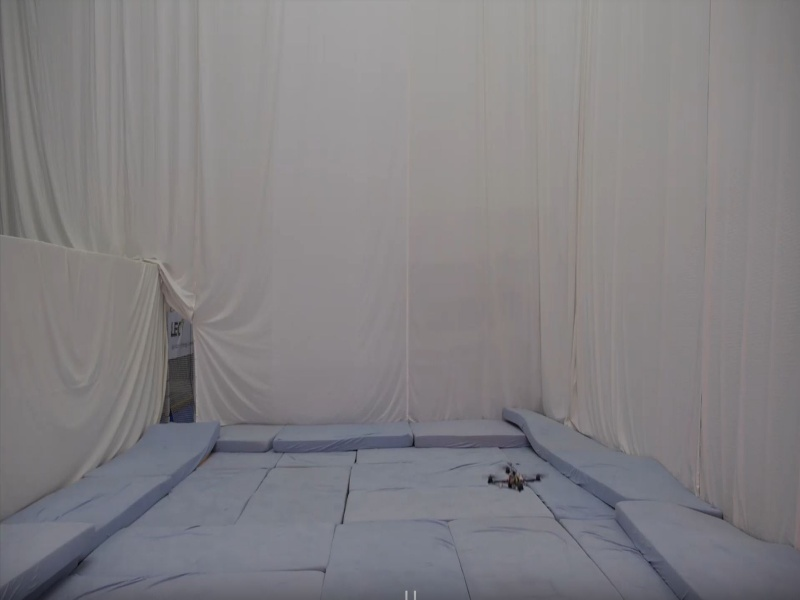drone: (478, 456, 554, 495)
